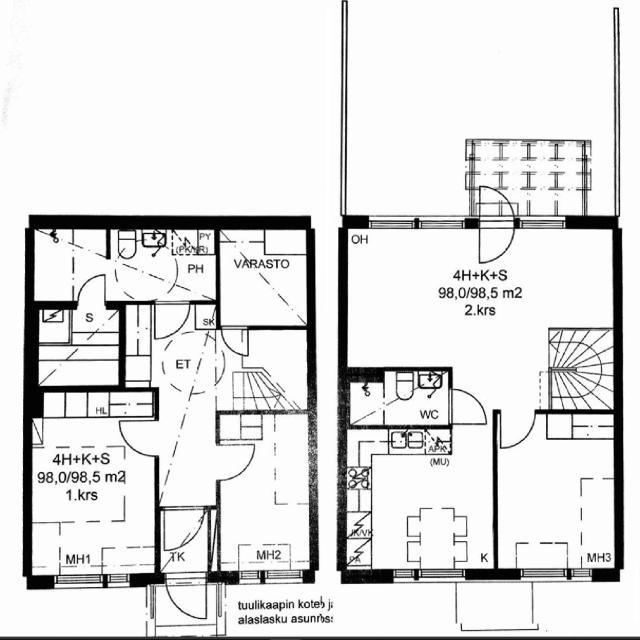door: (158, 504, 213, 576), (476, 185, 517, 263), (212, 435, 260, 483), (163, 574, 210, 621), (148, 296, 194, 344), (444, 383, 491, 427), (496, 405, 540, 450), (115, 415, 162, 457), (72, 269, 115, 308), (218, 322, 252, 358), (532, 180, 554, 199)
window: (371, 212, 468, 232), (361, 210, 421, 230), (513, 566, 574, 583), (51, 572, 105, 591), (518, 214, 570, 231), (415, 566, 469, 582), (262, 568, 308, 586), (388, 566, 420, 584), (233, 568, 264, 584), (104, 572, 134, 588), (568, 565, 596, 581)
zone: (334, 230, 618, 368), (342, 427, 498, 578), (495, 412, 617, 575), (29, 392, 154, 528), (215, 411, 312, 575), (40, 223, 221, 302), (215, 225, 311, 329), (346, 370, 453, 427), (158, 503, 214, 574), (70, 304, 122, 348)
